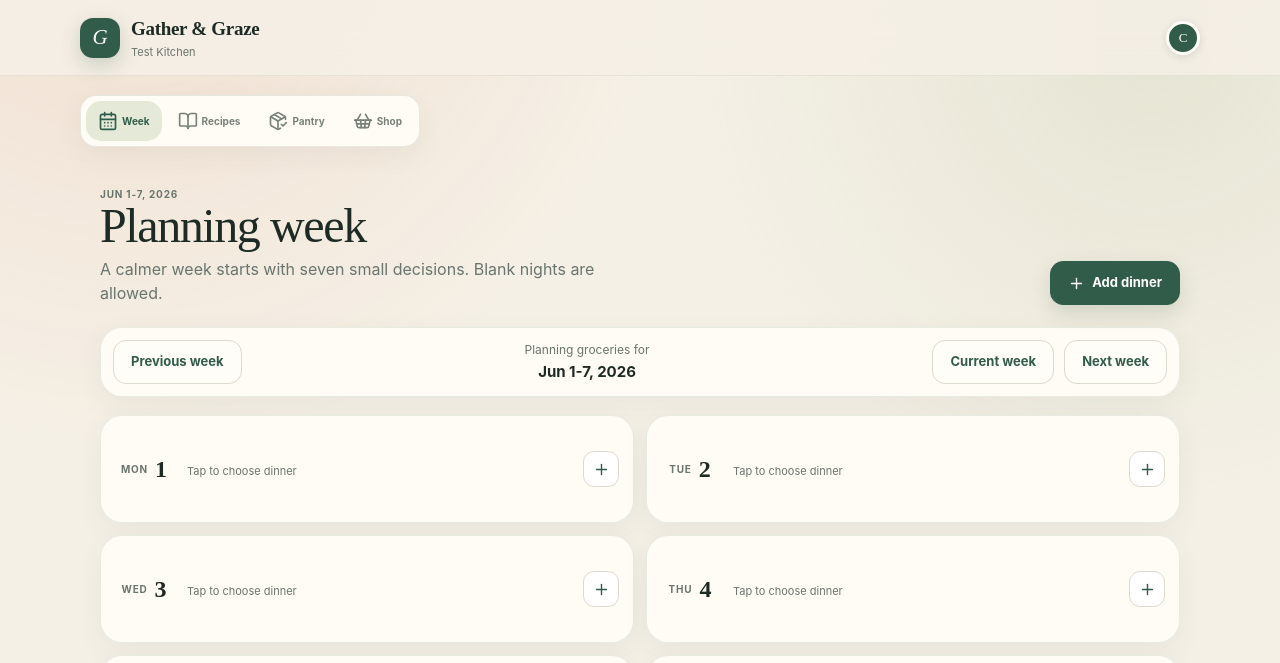
Test: DinnerPlannerApp recipe importing › shows a setup callout when OpenRouter is not configured
The width and height of the screenshot is (1280, 663).
Click the button "Recipes" at [209, 121], box [166,101,252,141]
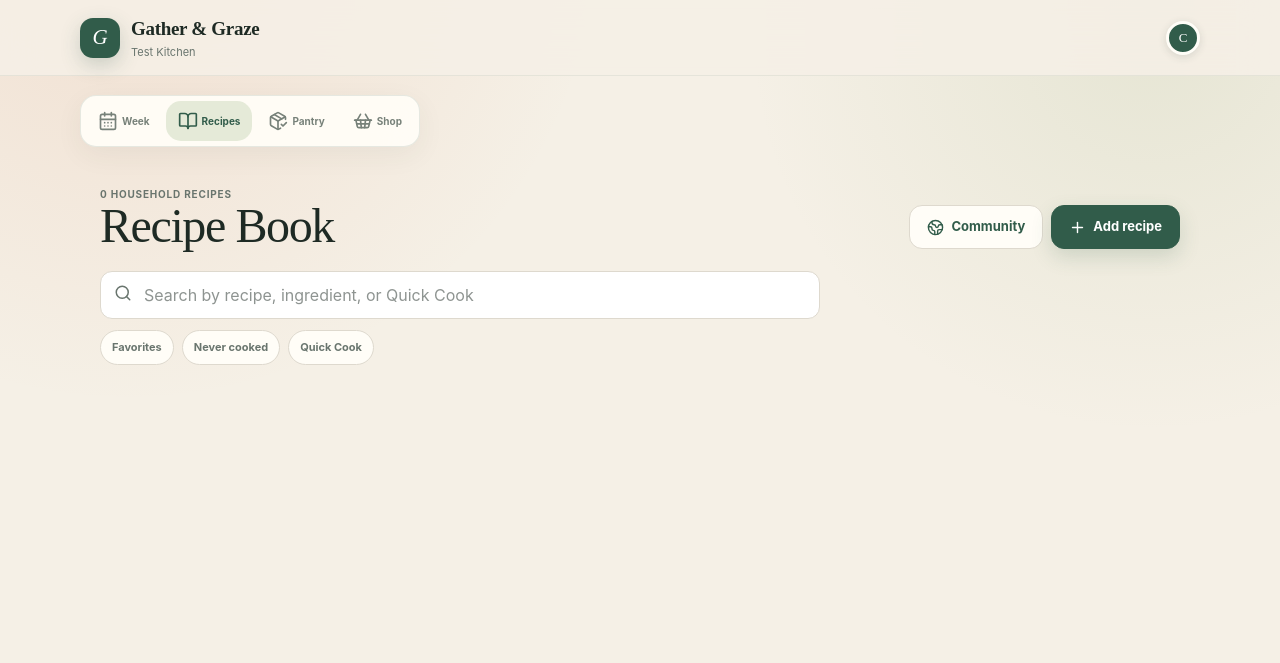
Expected: the heading "Recipe Book" is shown, [100,202,334,249]
Click the button "Add recipe" at [1116, 227], box [1051,205,1180,249]
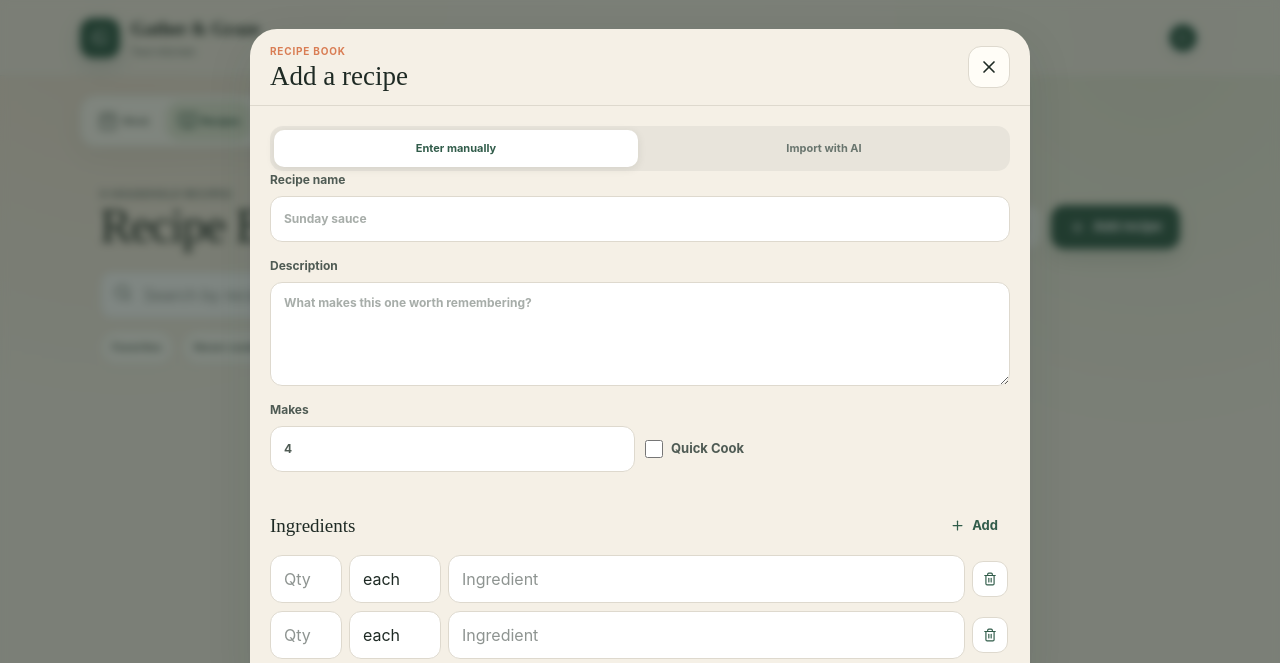
Click the button "Import with AI" at [824, 148], box [642,130,1006,167]
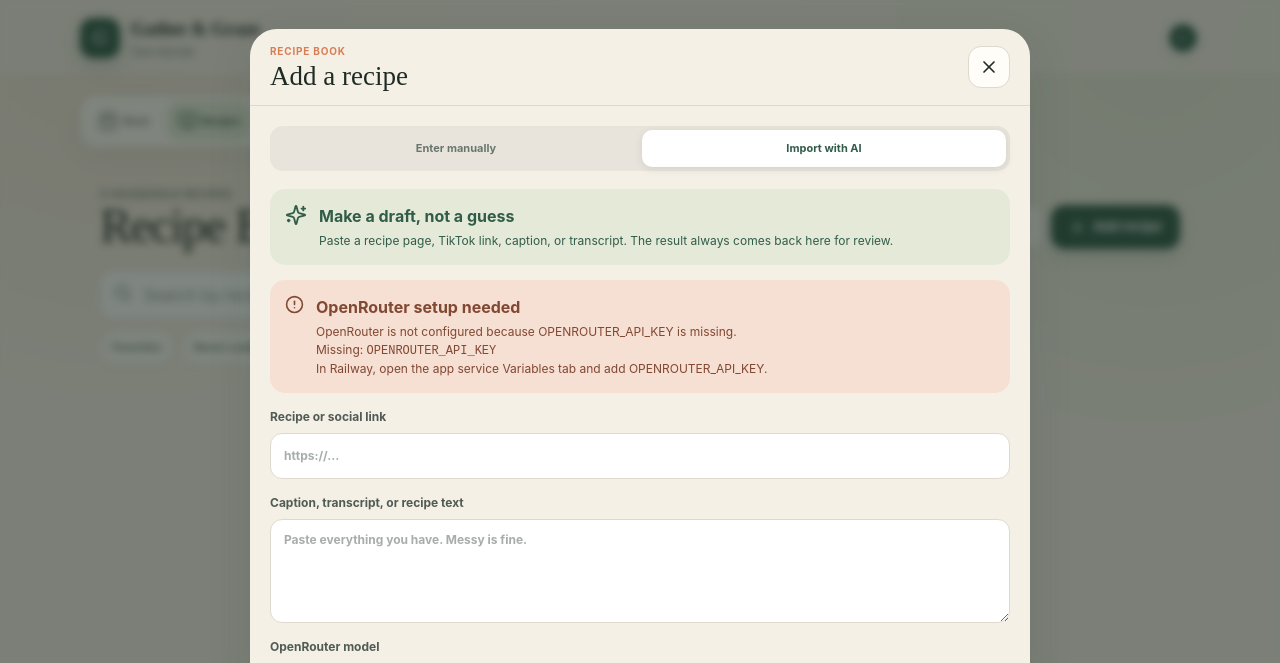
Expected: the text "OpenRouter setup needed" is shown, [316,297,520,317]
Expected: the text "OPENROUTER_API_KEY" is shown, [316,324,737,339]
Expected: the text "Railway" is shown, [316,361,768,376]
